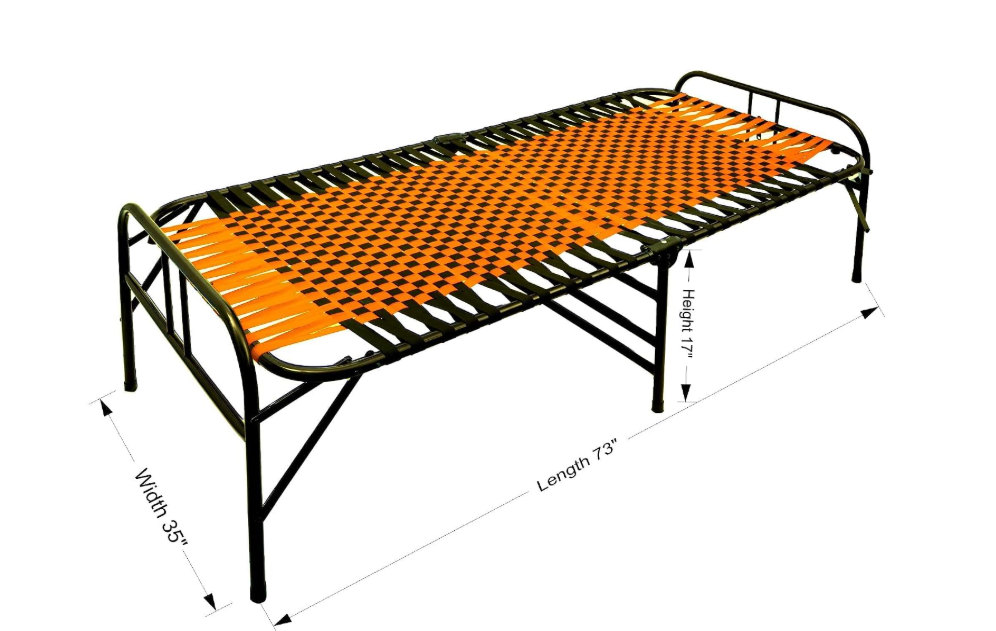cot: (91, 64, 873, 607)
